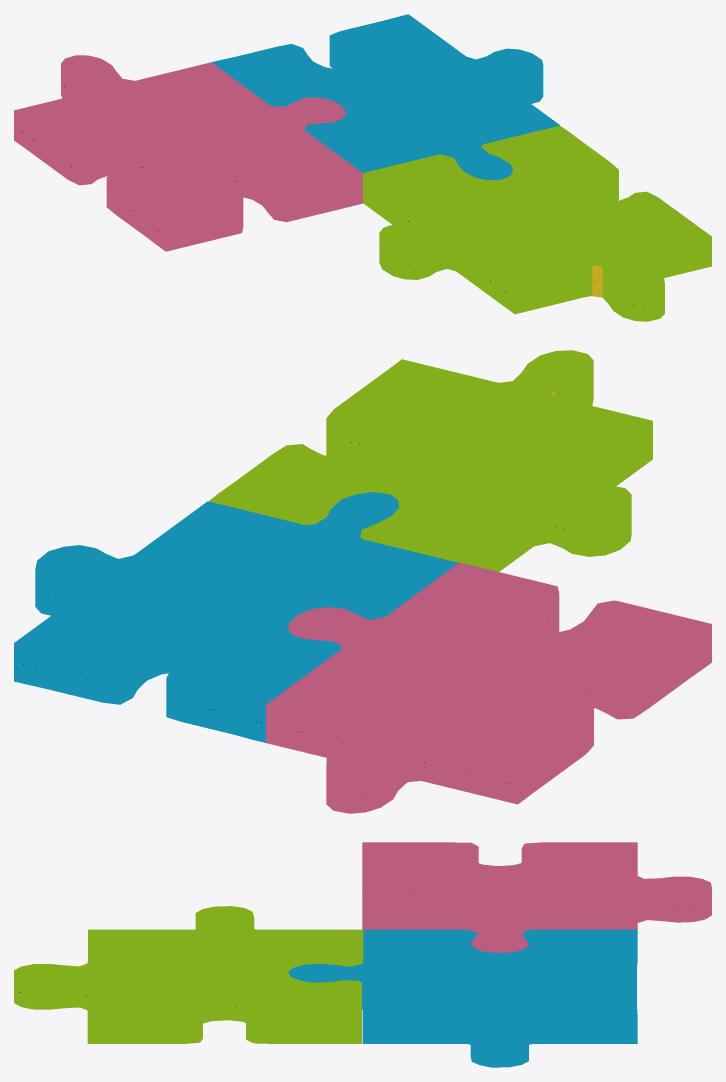
File: Puzzlesetfbx.fbx
3 views of the same model, one above another, from view 1: azimuth 30°, elevation 25°; view 2: azimuth 150°, elevation 25°; view 3: azimuth 270°, elevation 25° (orthographic). The views are drawn at different scales.
Visible parts, largest first — view 1: puzzle_piece_template_; view 2: puzzle_piece_template_; view 3: puzzle_piece_template_.
Boxes of the visible parts, bbox=[...] form: puzzle_piece_template_: bbox=[14, 14, 711, 321]; puzzle_piece_template_: bbox=[14, 350, 711, 813]; puzzle_piece_template_: bbox=[14, 842, 711, 1067].
Bounding box in the file's own units: 15.55 × 1 × 23.17.
